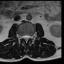CCS_normal: (25, 32, 27, 45)
LFS_normal: (30, 32, 33, 40)
LLS_normal: (27, 32, 30, 40)
RFS_normal: (20, 32, 22, 40)
RLS_normal: (22, 33, 25, 40)
